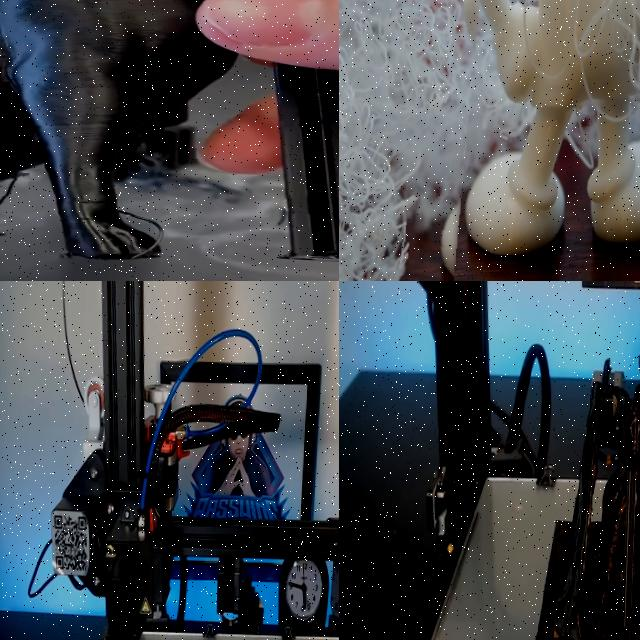spaghetti: (339, 0, 494, 281), (0, 163, 29, 210)
